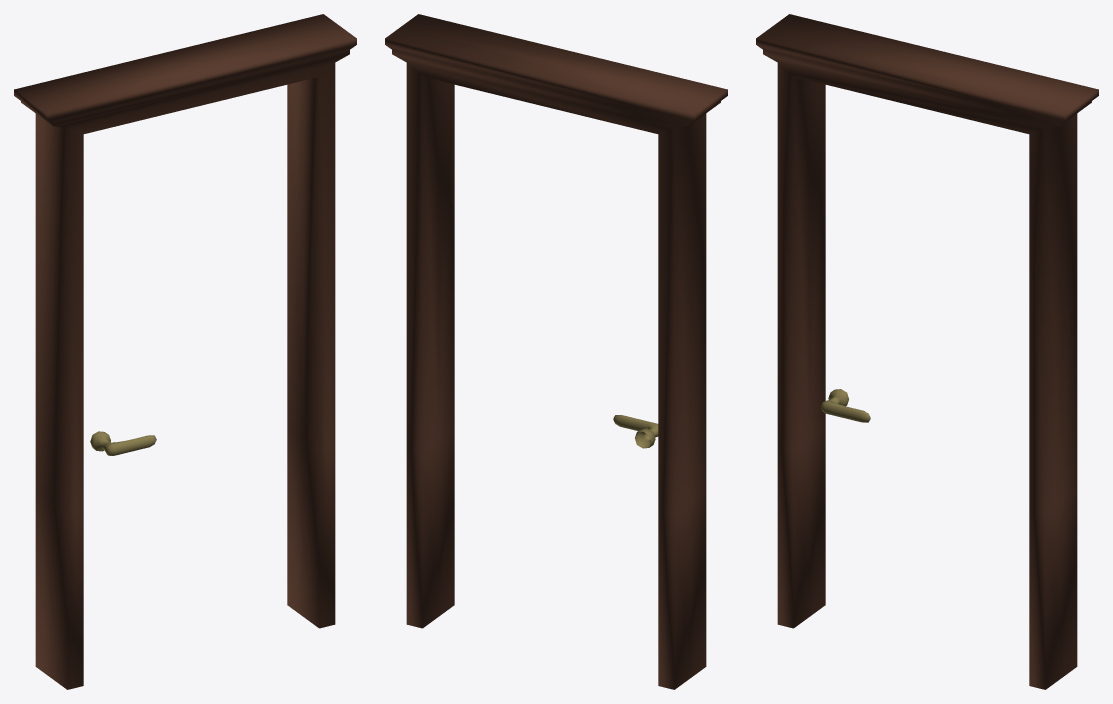
The model's file is door.glb.
3 renders of one model, left to right at view 1: azimuth 30°, elevation 25°; view 2: azimuth 150°, elevation 25°; view 3: azimuth 330°, elevation 25°, orthographic.
Parts seen in each view (by area): view 1: door; view 2: door; view 3: door.
Part boxes in pixels (bbox=[...]): door: bbox=[14, 14, 356, 689]; door: bbox=[385, 14, 727, 689]; door: bbox=[756, 14, 1098, 689].
Bounding box in the file's own units: 8.12 × 14.57 × 1.52.
